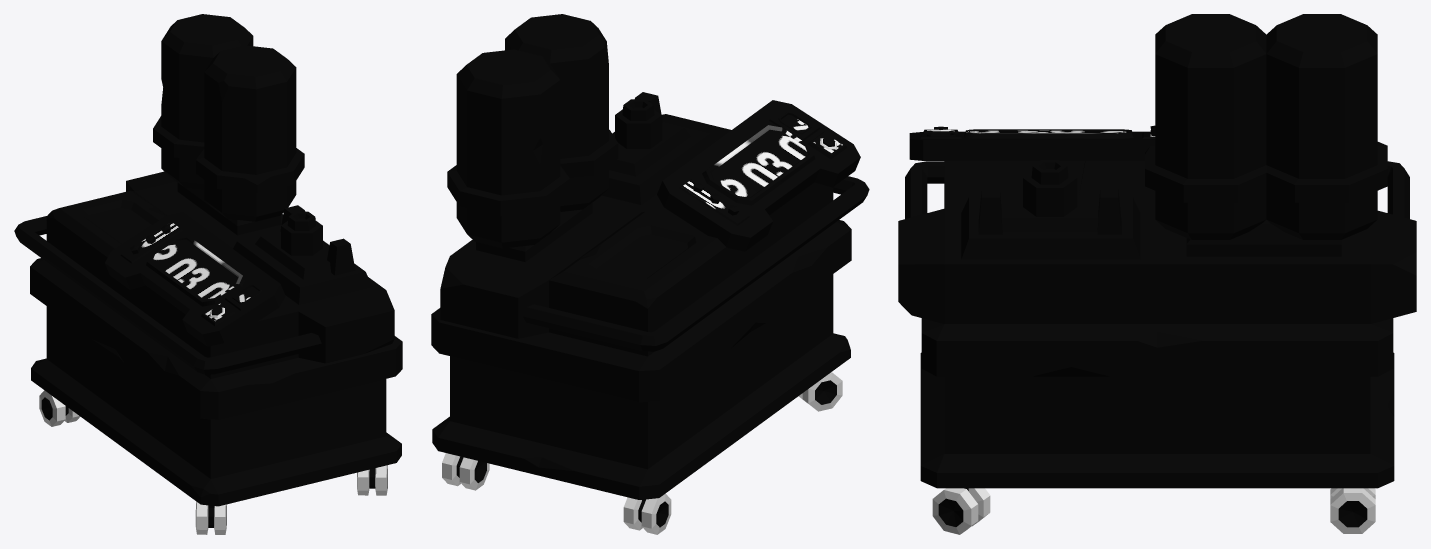
Rendered from space_SM_Prop_Medical_Cart_01.gltf.
3 views of the same model, side by side, from view 1: azimuth 30°, elevation 25°; view 2: azimuth 150°, elevation 25°; view 3: azimuth 270°, elevation 25° (orthographic). The views are drawn at different scales.
Parts seen in each view (by area): view 1: SM_Prop_Medical_Cart_01; view 2: SM_Prop_Medical_Cart_01; view 3: SM_Prop_Medical_Cart_01.
Boxes of the visible parts, box(x1,y1,x2,y2) form: SM_Prop_Medical_Cart_01: box(14, 14, 402, 534); SM_Prop_Medical_Cart_01: box(431, 14, 869, 534); SM_Prop_Medical_Cart_01: box(898, 14, 1416, 534).
Bounding box in the file's own units: 1.04 × 1.71 × 1.69.
Materials: 1 (1 with a texture image).
